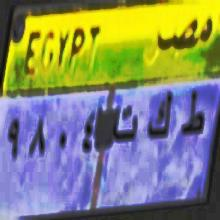0: (58, 126, 69, 155)
4: (79, 108, 96, 168)
8: (29, 114, 46, 161)
9: (4, 111, 20, 167)
Taa: (181, 89, 204, 149)
kaaf: (145, 88, 172, 150)
taa: (109, 101, 138, 151)
